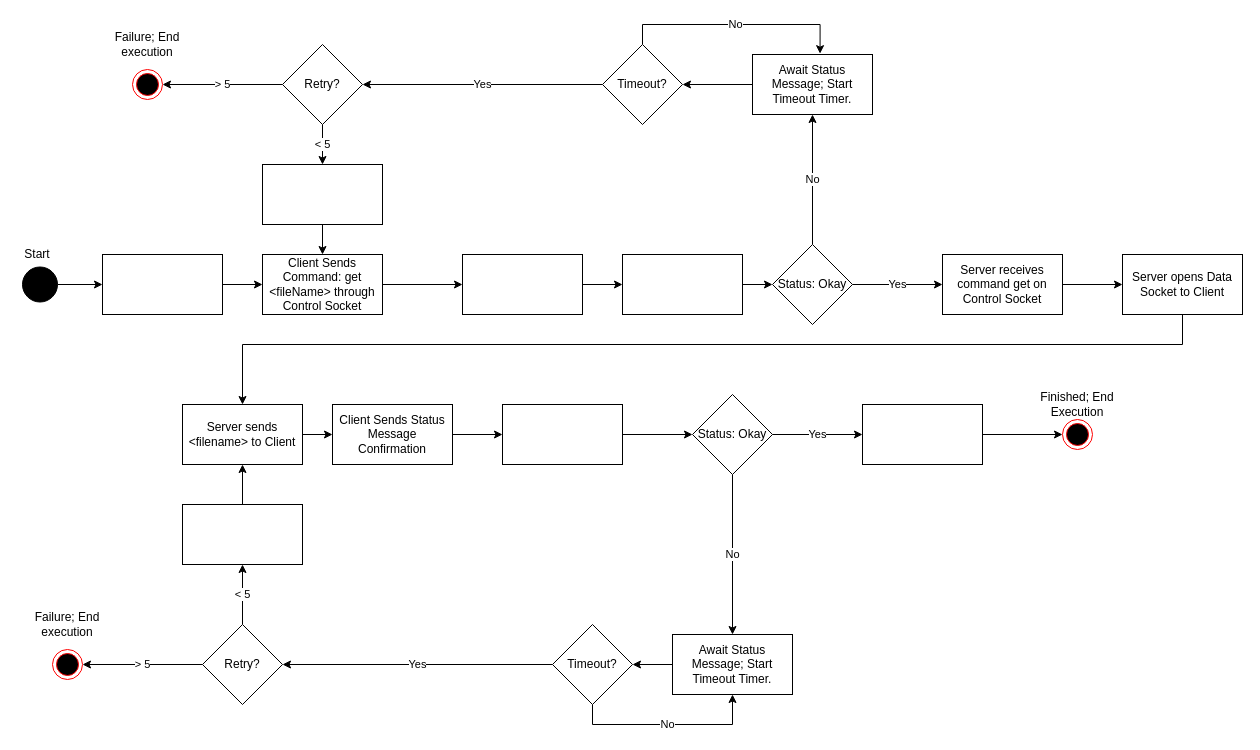
This 1260x750 diagram has some shape labels left out. The shapes that lost their labels are listed below. From the top down, each one's box as (x1, y1, x2, y2) in pixels, then its label:
(262, 164, 382, 224): cRetry++
(102, 254, 222, 314): Client opens Control Socket connection to Server (if not already open)
(462, 254, 582, 314): Server Sends Status Message
(622, 254, 742, 314): Client Receives Status Message
(502, 404, 622, 464): Server Receives Status Message Confirmation
(862, 404, 982, 464): Server Closes Data Socket
(182, 504, 302, 564): sRetry++
